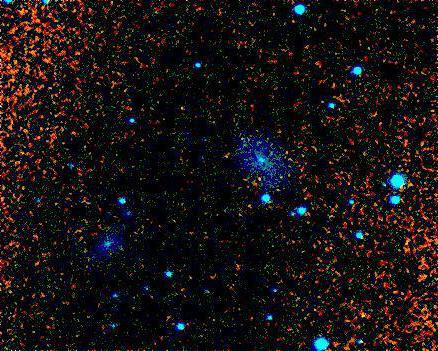star: (353, 302, 383, 332)
